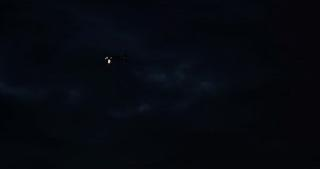Plane: (94, 53, 124, 68)
